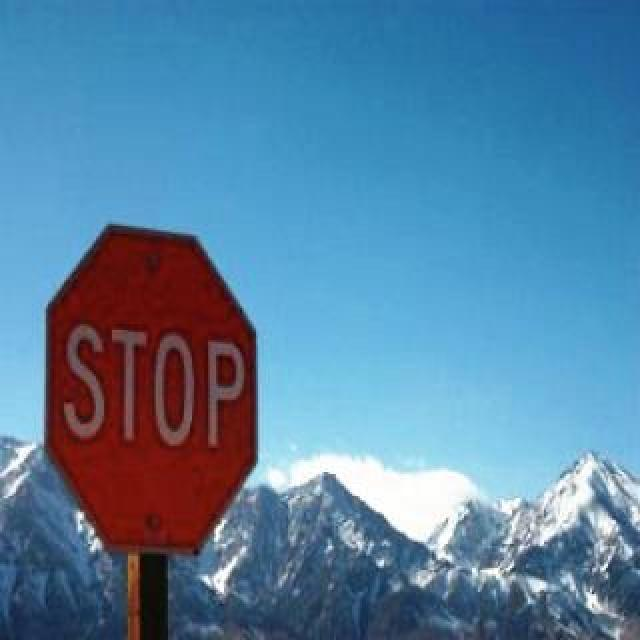stop: (42, 220, 258, 554)
